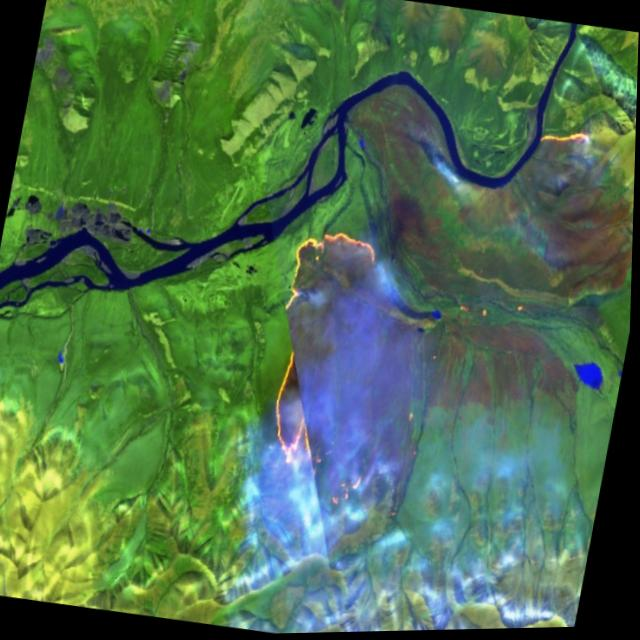fire: (249, 216, 388, 499), (535, 110, 600, 166)
